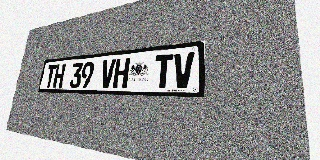3: (69, 62, 83, 88)
9: (80, 61, 95, 88)
H: (113, 58, 130, 88), (53, 64, 66, 88)
T: (153, 54, 174, 88), (44, 65, 57, 88)
V: (173, 52, 194, 88), (99, 59, 116, 88)
